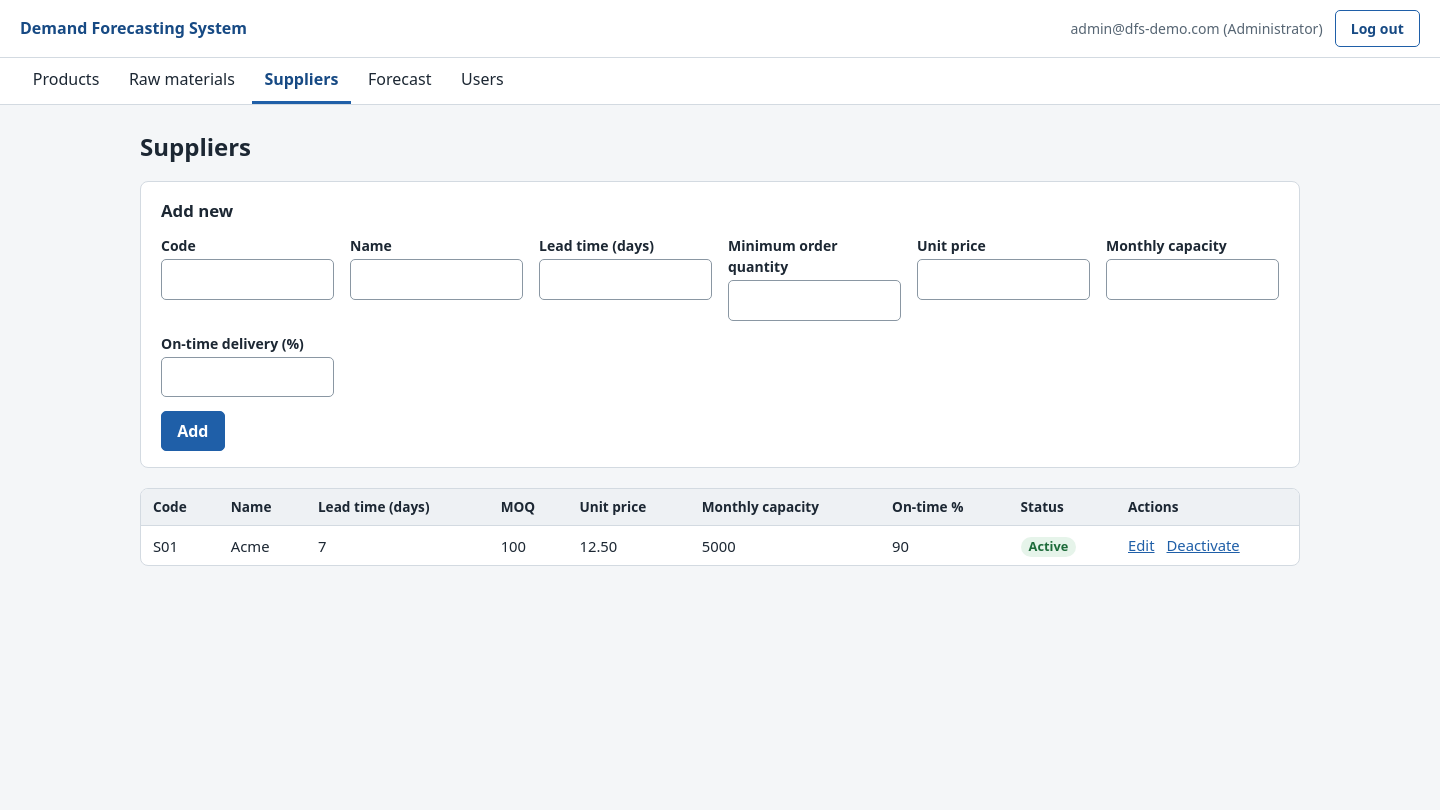
Test: suppliers › shows server errors on the form
Click the button named "Edit S01": (1141, 546) [1128,534,1154,557]
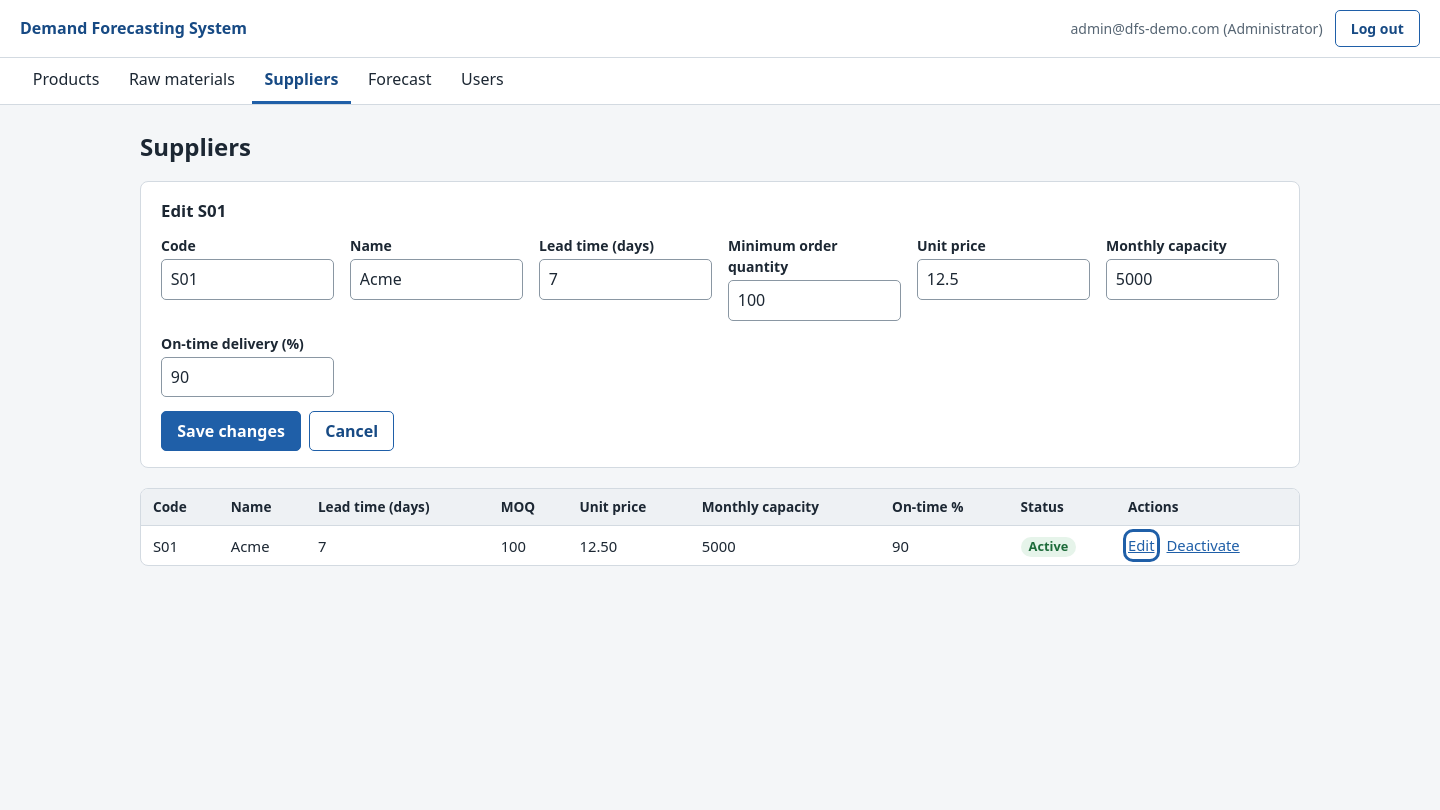
Click the button "Save changes": (231, 431) [161,411,301,451]
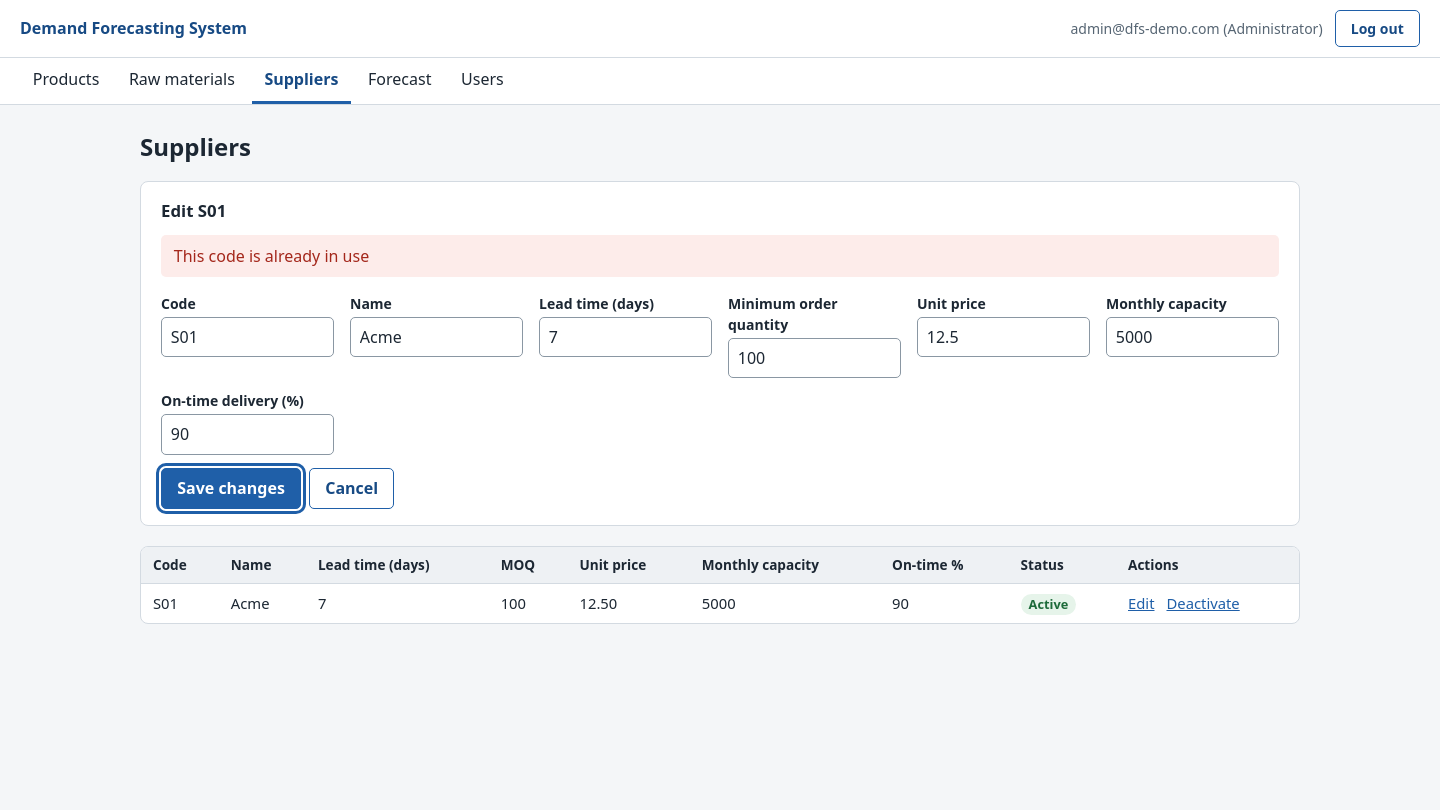
Check: the message shows "already in use", box [174,245,369,267]
Click the button "Cancel": (352, 488) [309,468,394,509]
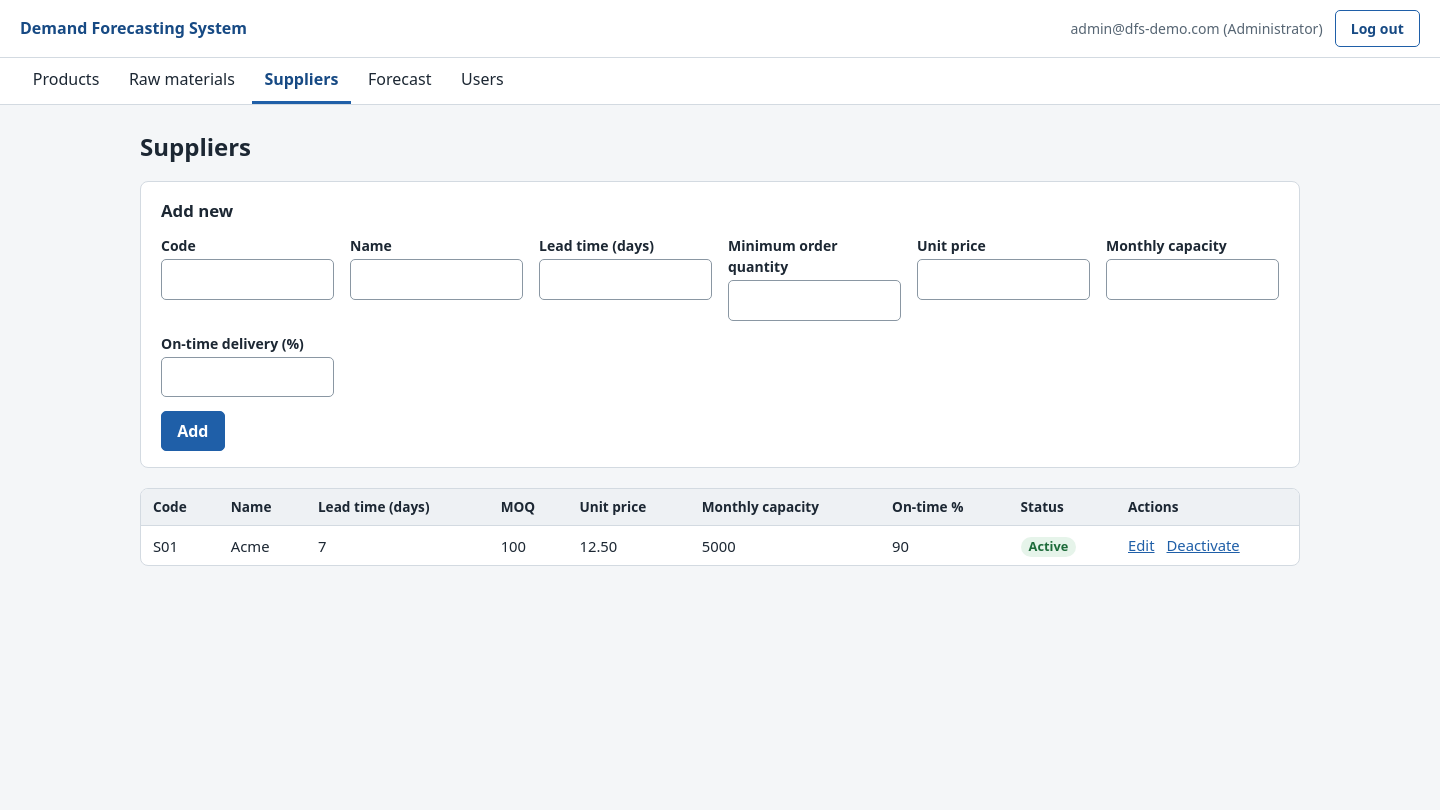
Check: the message "This code is already in use" is gone
